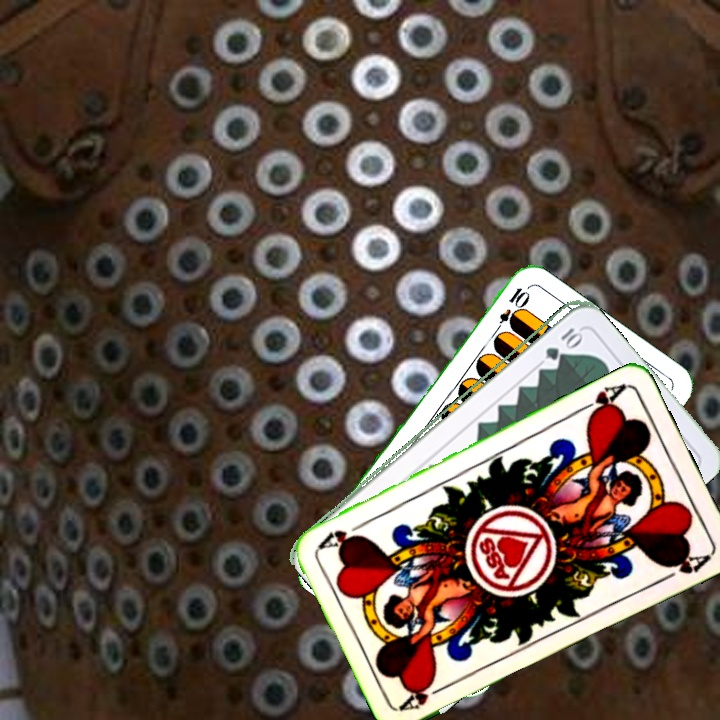E10: (489, 283, 531, 338)
G10: (541, 323, 583, 362)
HA: (573, 379, 629, 421), (397, 676, 453, 714)
